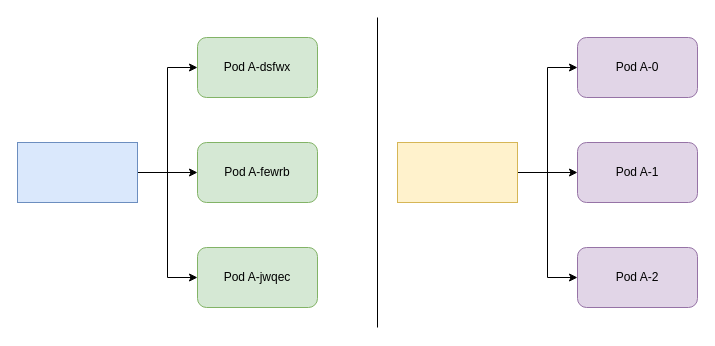
This 715x346 diagram has some shape labels left out. Each missing label, with the centre of its shape:
ReplicaSet: point (77, 172)
StatefulSet: point (457, 172)
